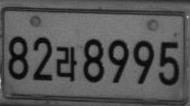2: (31, 36, 52, 80)
5: (157, 41, 180, 85)
8: (7, 35, 29, 80), (82, 38, 104, 83)
9: (132, 39, 155, 84), (107, 39, 129, 83)
라: (55, 46, 77, 81)
